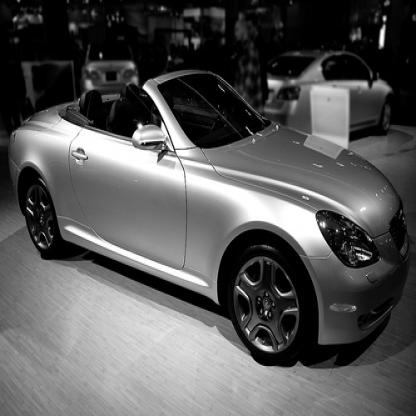car: (8, 68, 412, 367), (262, 49, 396, 137), (81, 42, 140, 92)
